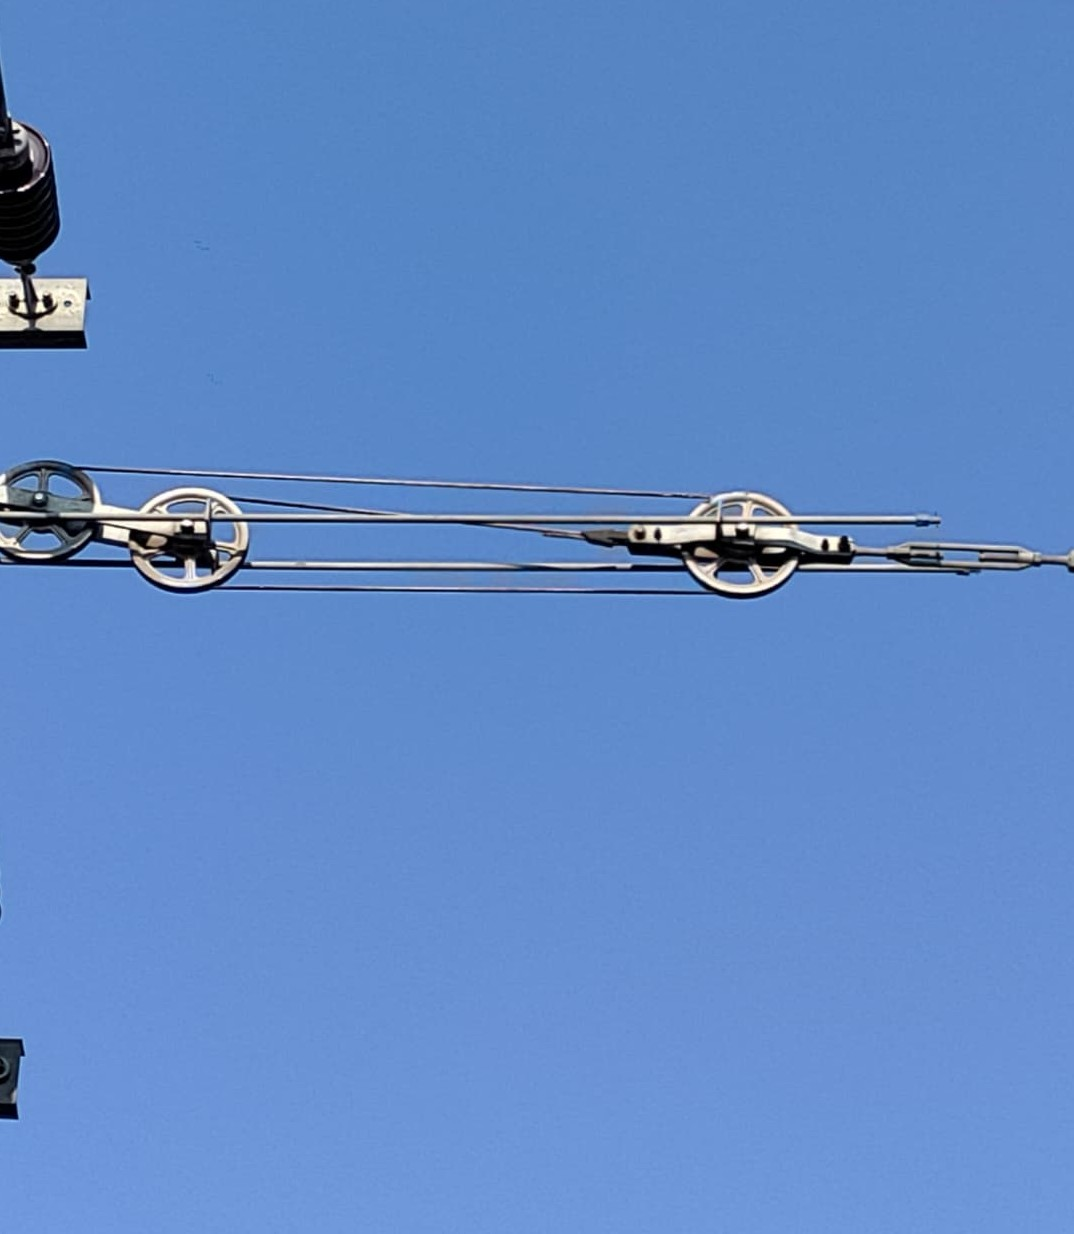Pulley: (132, 472, 257, 597), (678, 485, 811, 594), (0, 461, 109, 569)
objectA: (2, 89, 109, 364)
